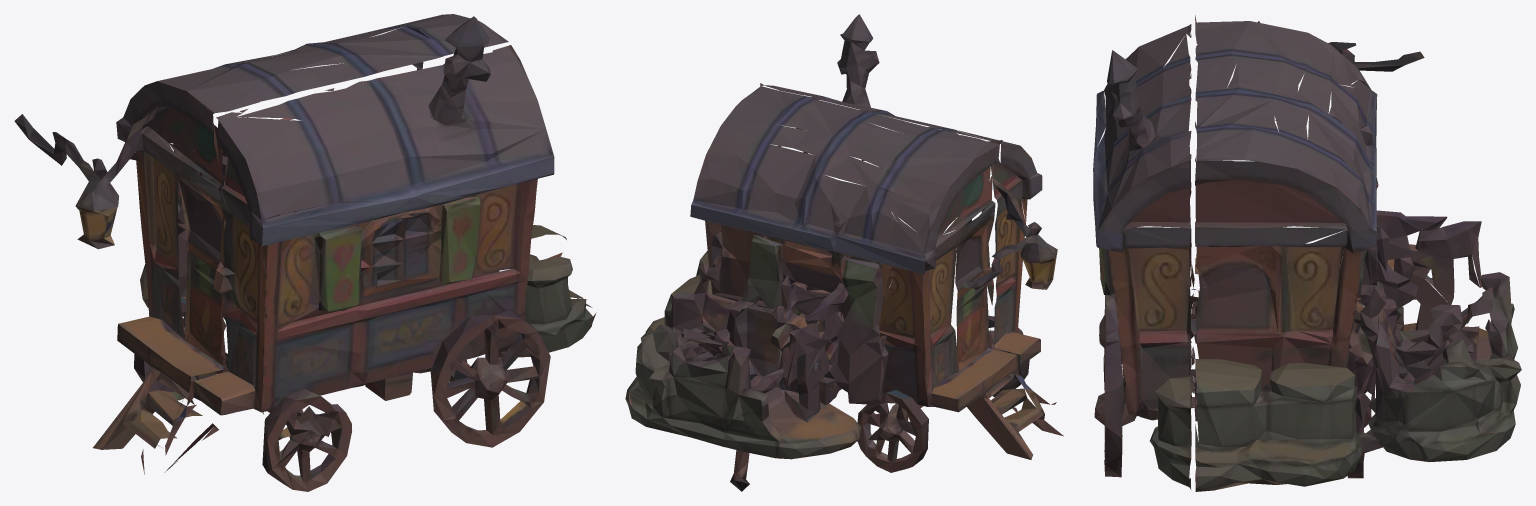
Rendered from wagon_a.glb.
3 renders of one model, left to right at view 1: azimuth 30°, elevation 25°; view 2: azimuth 150°, elevation 25°; view 3: azimuth 270°, elevation 25°, orthographic. The views are drawn at different scales.
Visible parts, largest first — view 1: geometry_0; view 2: geometry_0; view 3: geometry_0.
Boxes of the visible parts, x1,y1,x2,y2 form: geometry_0: (14,14,596,491); geometry_0: (625,14,1063,491); geometry_0: (1093,15,1521,491).
Bounding box in the file's own units: 2.3 × 1.96 × 1.83.
Materials: 1 (1 with a texture image).
